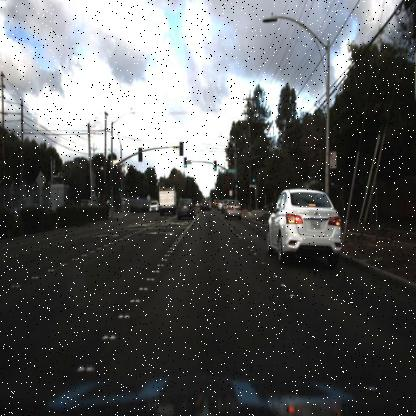car: (263, 181, 344, 280), (175, 197, 196, 221), (223, 198, 244, 219), (146, 197, 159, 217), (198, 197, 212, 213), (148, 199, 160, 215)
trafficLight-Green: (209, 157, 219, 173), (116, 180, 124, 196), (232, 178, 240, 192), (182, 156, 189, 171), (249, 174, 257, 185), (232, 180, 239, 192), (212, 160, 218, 173), (252, 173, 256, 188)
truck: (154, 186, 178, 216), (158, 182, 176, 216)
